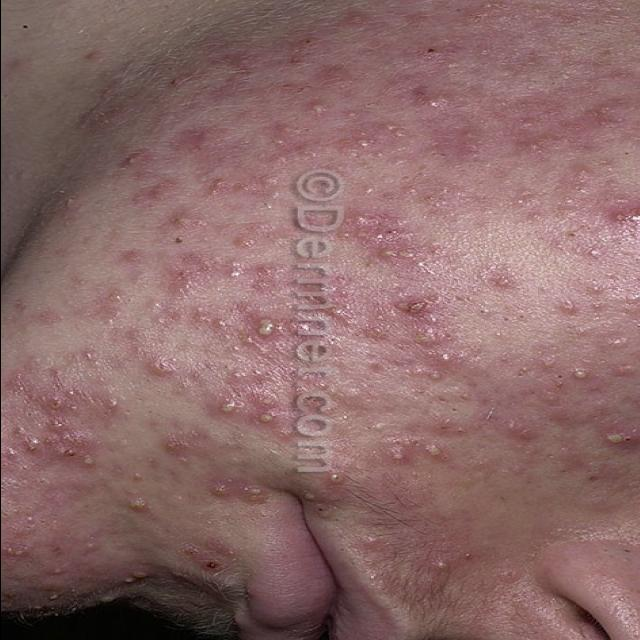Acne: (167, 252, 217, 298), (337, 214, 412, 244), (179, 536, 241, 572), (427, 126, 481, 164), (205, 480, 272, 506), (0, 426, 40, 462), (40, 417, 88, 447), (392, 294, 440, 322), (244, 313, 286, 343), (598, 422, 640, 452), (248, 391, 282, 428), (381, 432, 416, 467), (176, 128, 223, 154), (50, 444, 100, 468), (339, 136, 384, 162), (250, 264, 289, 292), (370, 244, 424, 264), (284, 37, 320, 67), (208, 392, 246, 420), (189, 309, 233, 332), (45, 388, 83, 414), (513, 134, 551, 160), (425, 347, 469, 369), (499, 416, 536, 442), (584, 104, 620, 130), (562, 362, 599, 387), (144, 355, 182, 379), (165, 209, 206, 231), (608, 204, 640, 232), (100, 290, 126, 324), (410, 325, 448, 348), (417, 440, 454, 463), (162, 433, 196, 458), (374, 119, 414, 139), (255, 172, 283, 200), (553, 294, 583, 320), (422, 185, 450, 211), (599, 331, 635, 351), (119, 149, 153, 170), (268, 122, 296, 147), (488, 271, 522, 291), (120, 494, 154, 514), (0, 541, 35, 560), (302, 98, 332, 120), (534, 388, 566, 408), (78, 346, 104, 370), (342, 9, 371, 30), (229, 234, 261, 252), (576, 244, 608, 262), (200, 178, 232, 196), (97, 391, 121, 415), (468, 0, 506, 15), (328, 303, 356, 323), (415, 44, 443, 64), (222, 256, 244, 280), (610, 360, 636, 380), (118, 570, 150, 586), (421, 368, 451, 385), (419, 96, 449, 112), (438, 58, 464, 74), (122, 248, 144, 266), (470, 44, 494, 59), (324, 470, 346, 486), (584, 280, 606, 296), (538, 355, 558, 372), (80, 50, 106, 63), (296, 488, 320, 502), (456, 549, 480, 563), (570, 183, 592, 196), (587, 299, 607, 313), (432, 560, 452, 572)
